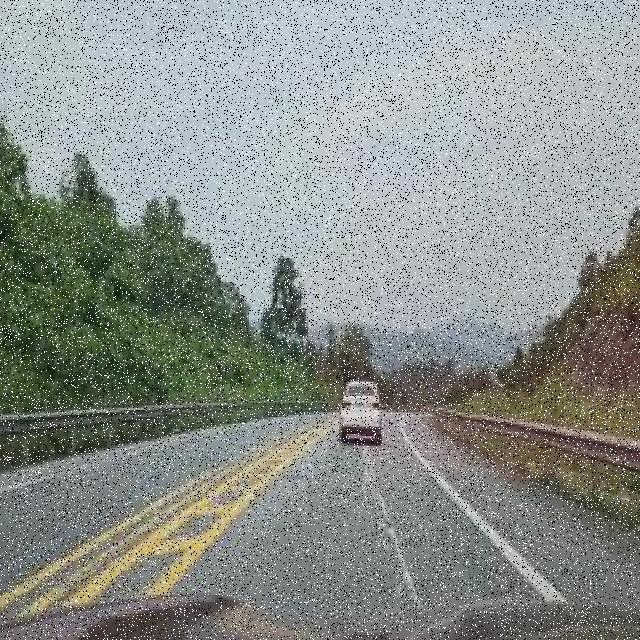clear-road: (0, 414, 640, 625)
